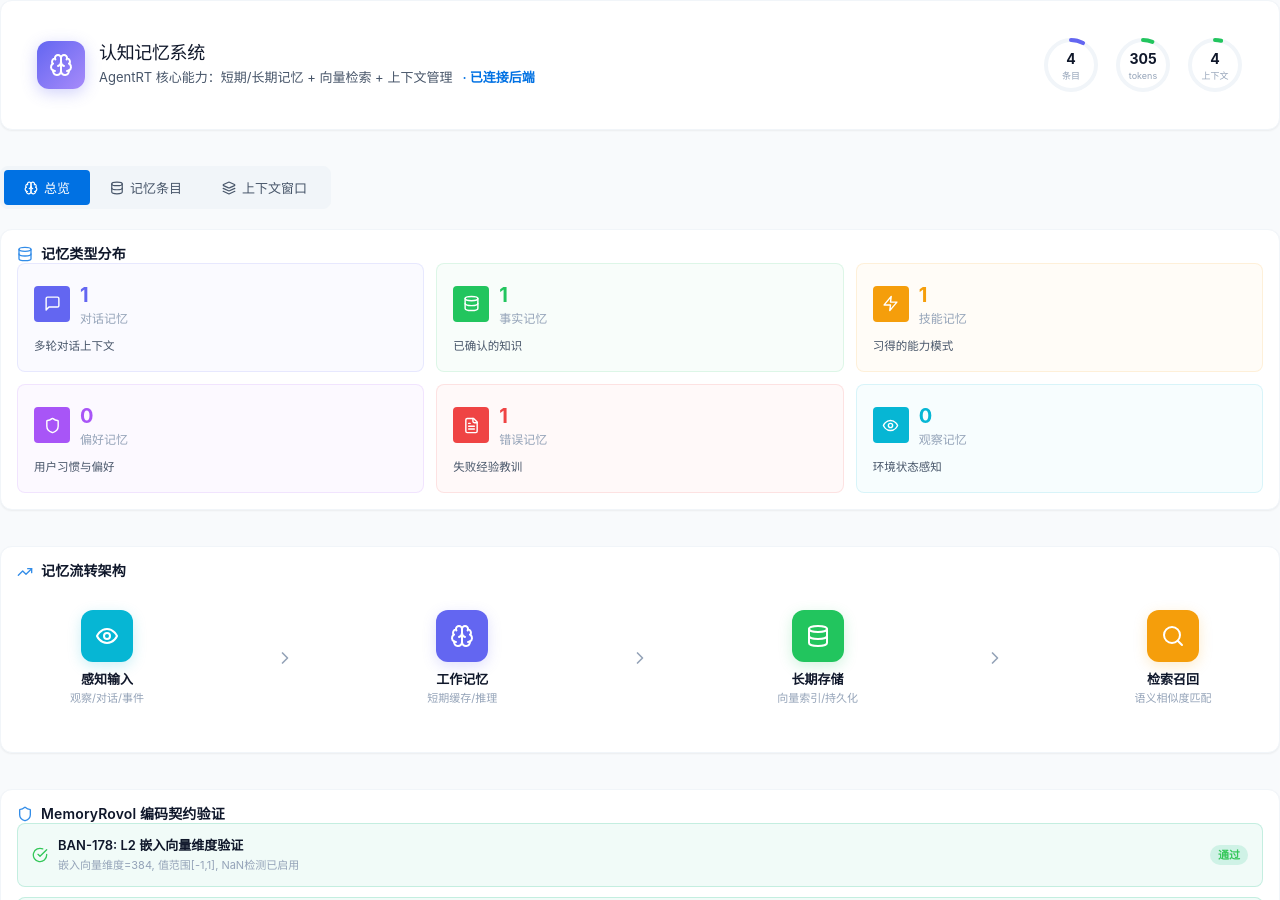
Test: MemorySystem › shows context window stats in context tab
expect the heading "认知记忆系统" is shown: met, box [99,42,205,64]
What coordinates should you click on to do the following:
click the tab "上下文窗口"
I would click on:
 (264, 188)
Its box is [202,170,327,205].
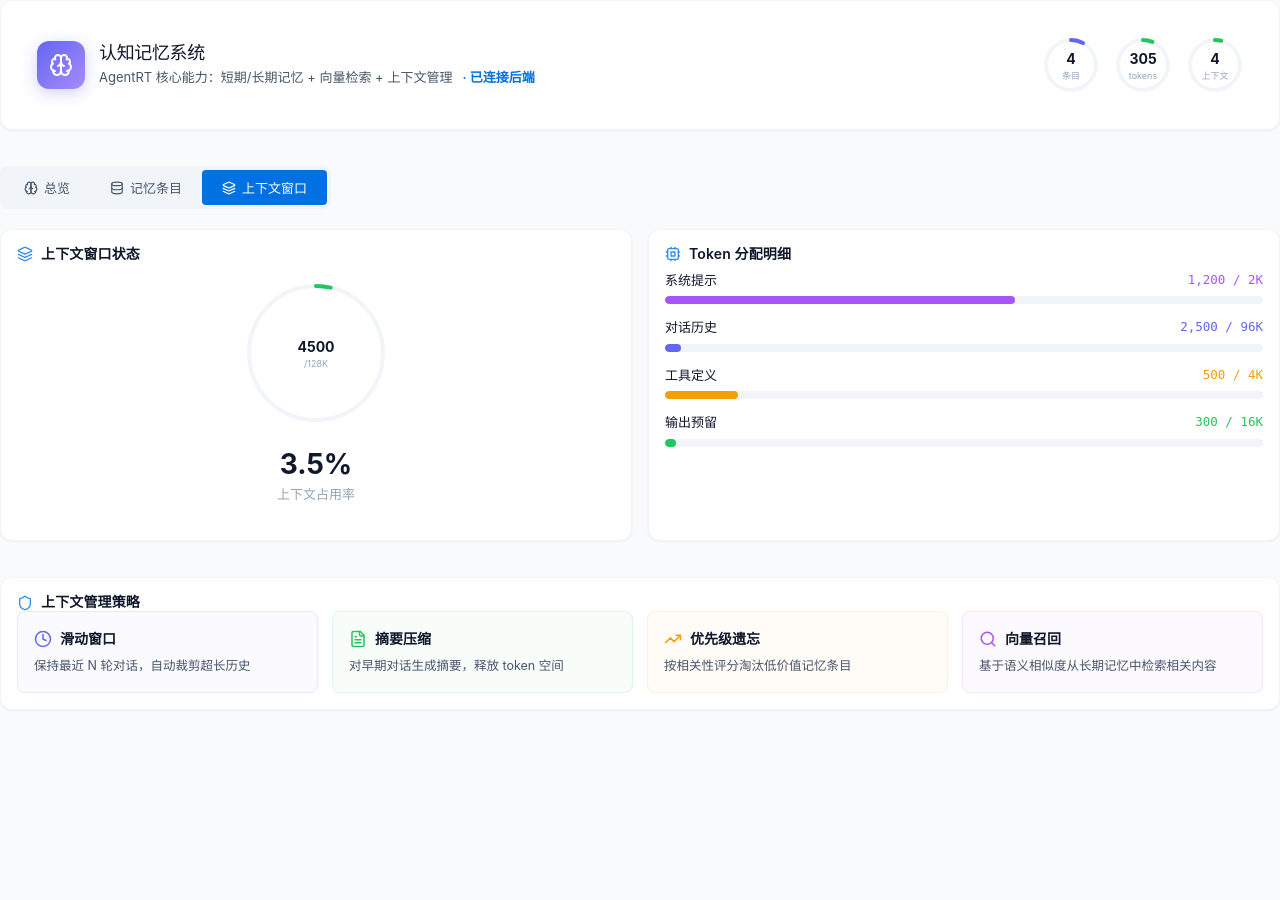
expect the text "系统提示" is shown: met, box [665,271,717,290]
expect the text "对话历史" is shown: met, box [665,318,717,338]
expect the text "工具定义" is shown: met, box [665,366,717,385]
